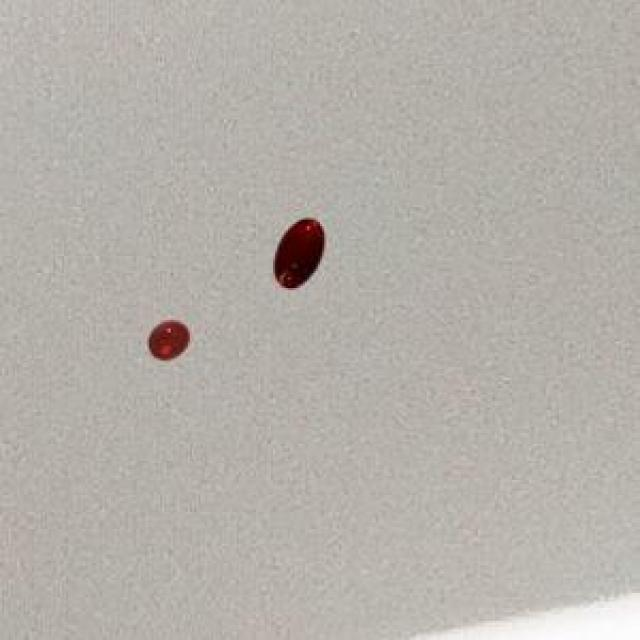Medicol: (270, 210, 330, 300), (142, 312, 202, 369)
